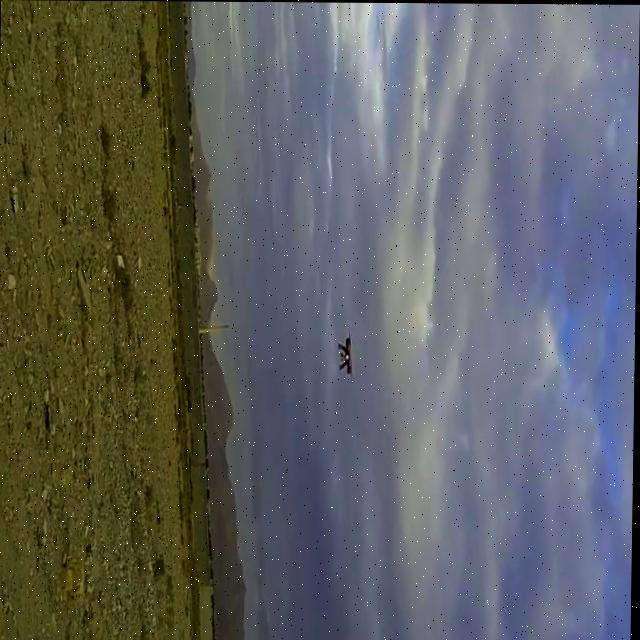drone: (334, 328, 358, 386)
